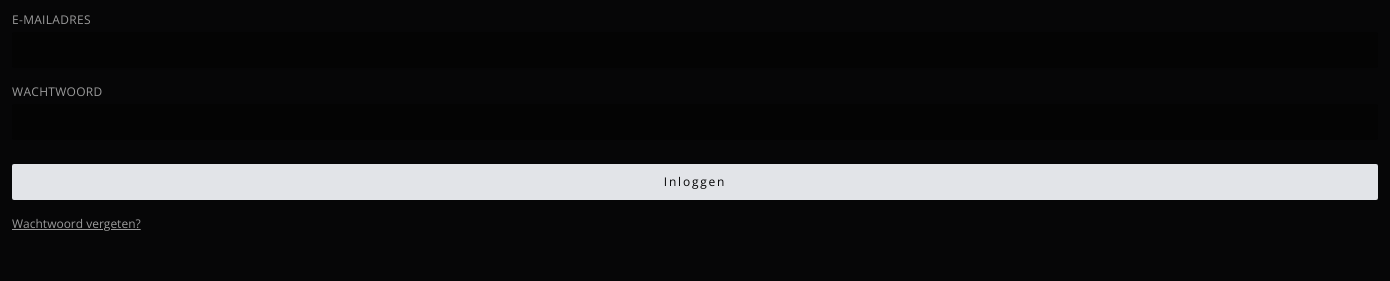
Scenario: AdminLoginForm › shows a validation message when requesting a password reset without an email
Click the button with test id "beheer-forgot-password".
click(76, 224)  # box [12,216,1378,232]
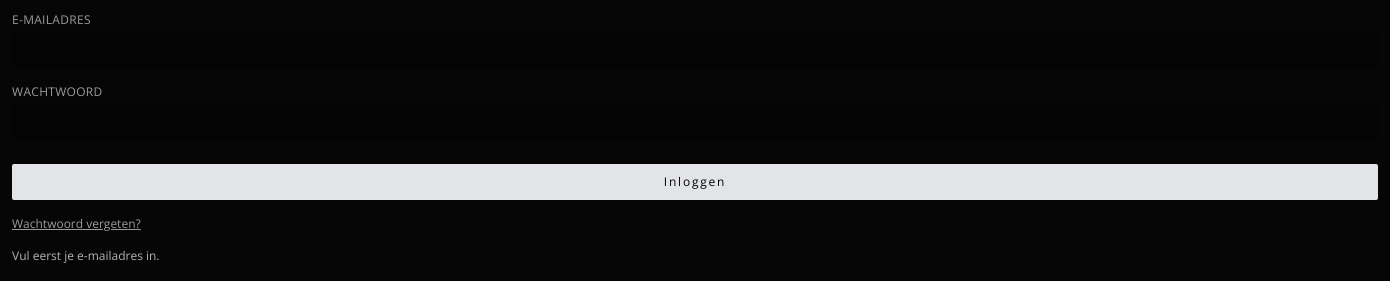
Now the text "Vul eerst je e-mailadres in." is shown, box [12,247,160,264]
